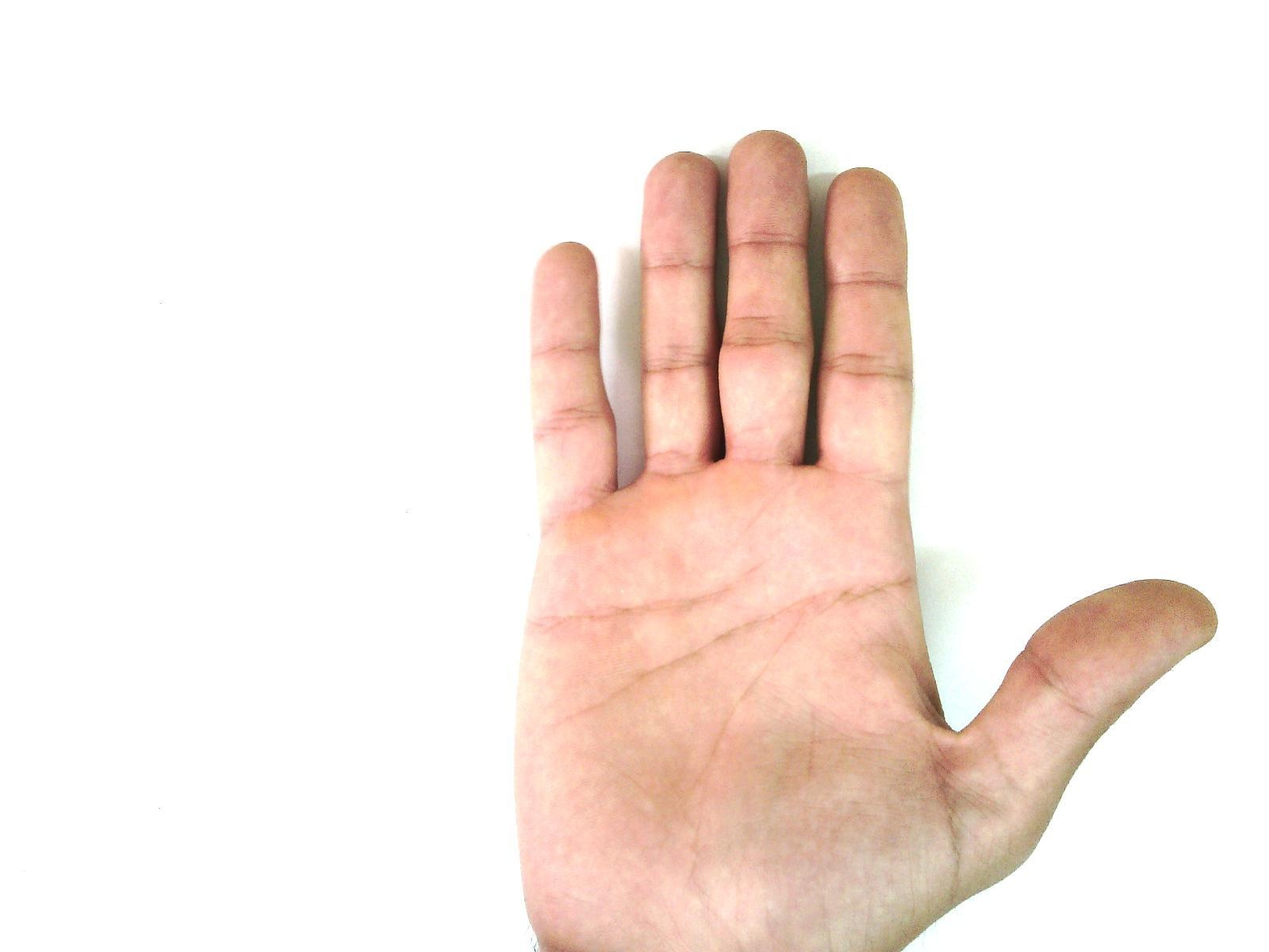open_palm: (510, 129, 1220, 951)
